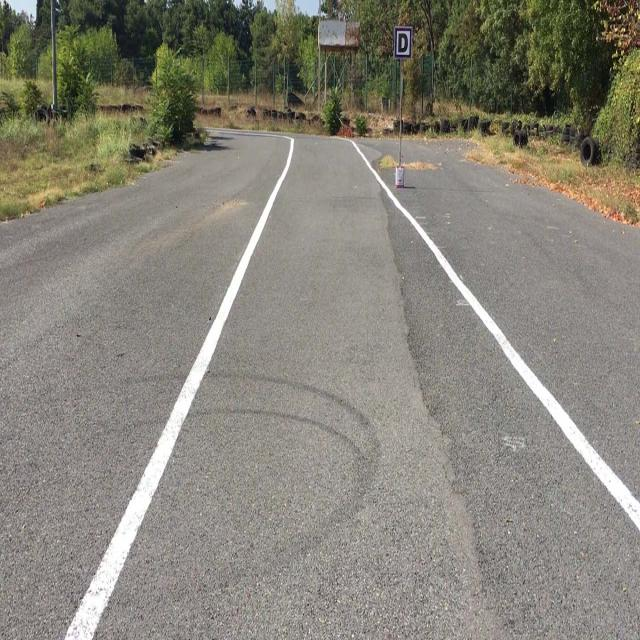durak: (395, 27, 411, 58)
